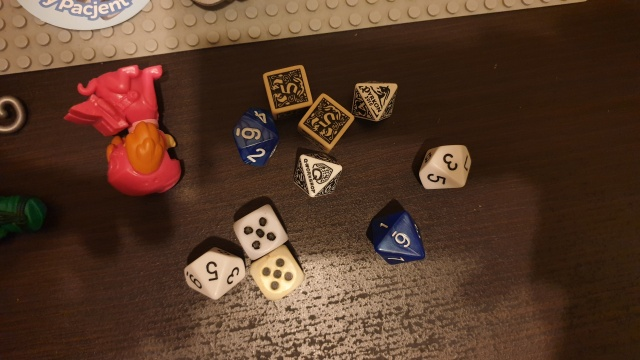d10-3: (413, 139, 479, 197)
d10-5: (179, 245, 246, 305)
d10-6: (367, 207, 434, 270), (230, 105, 279, 169)
d6-5: (231, 202, 289, 260), (248, 250, 307, 301)
d6p-5: (301, 94, 353, 152), (262, 59, 312, 117)
d8p-1: (346, 73, 402, 128)
d8p-8: (288, 148, 348, 201)
